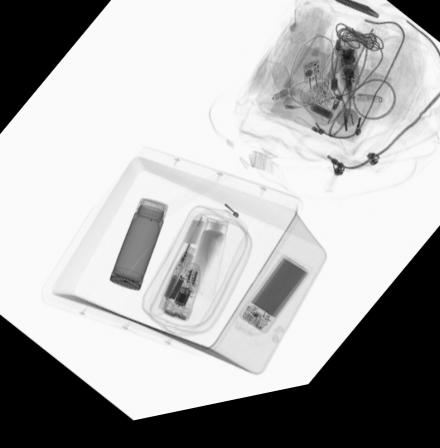Powerbank: (239, 265, 310, 343)
